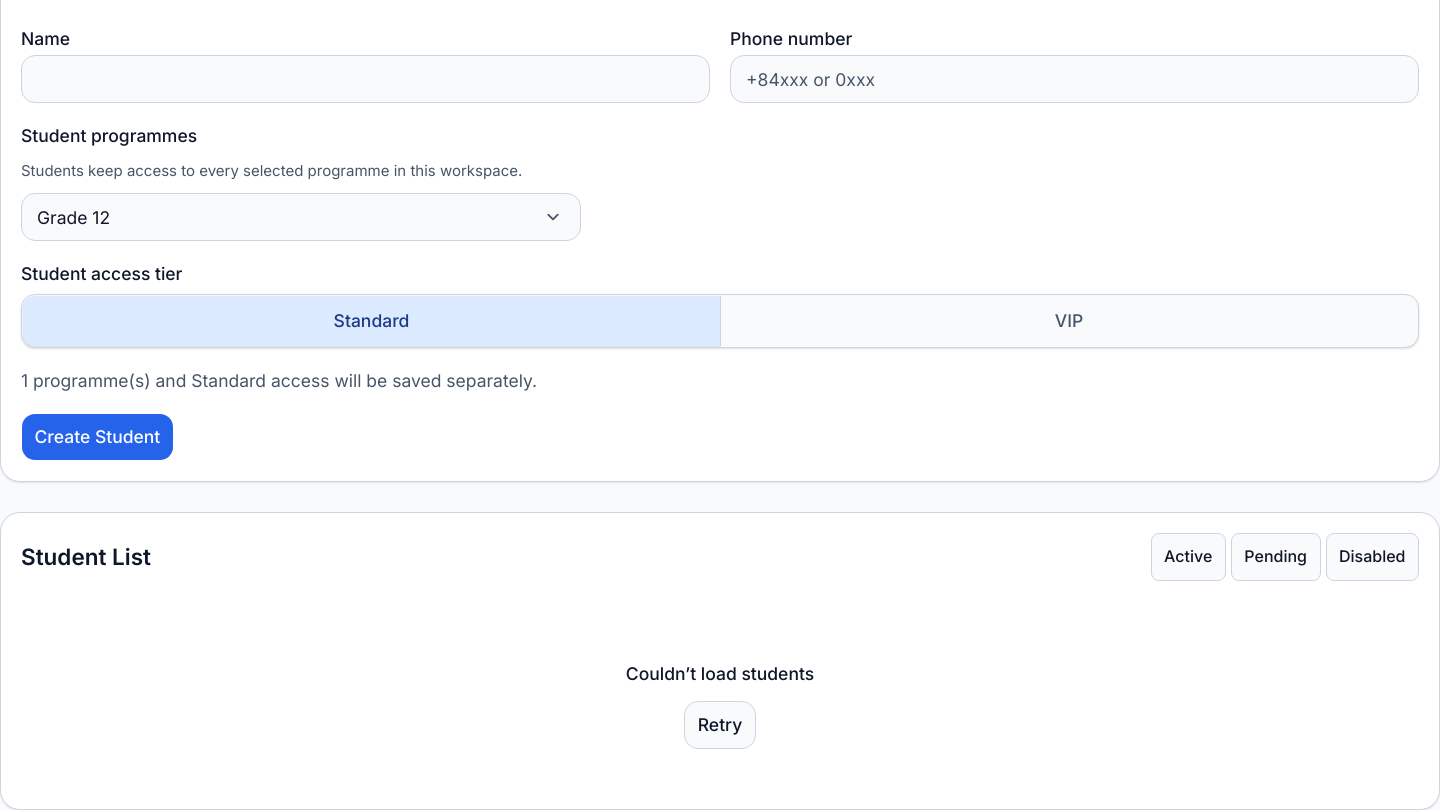
TeacherStudentsPage › shows a load error instead of the empty state and retries with the active filter
This screenshot has width=1440, height=810.
(page scrolled)
Expected: the text "Couldn’t load students" is shown, [626,663,814,684]
Expected: the text "No students yet" is not shown
Click the button "Pending".
click(1276, 557)  # box [1231,533,1320,581]
(page scrolled)
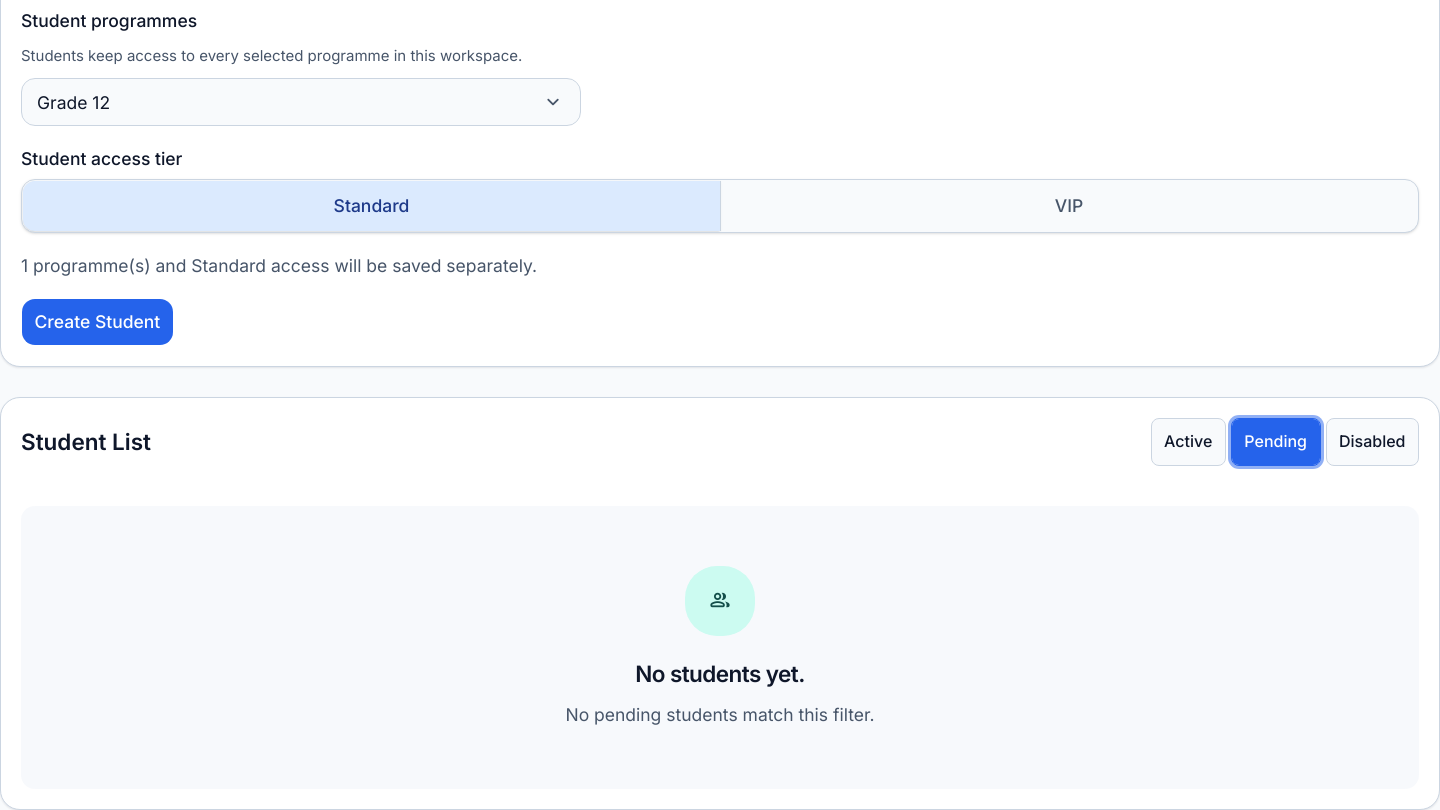
Now the text "No pending students match this filter." is shown, box [566,701,874,729]
